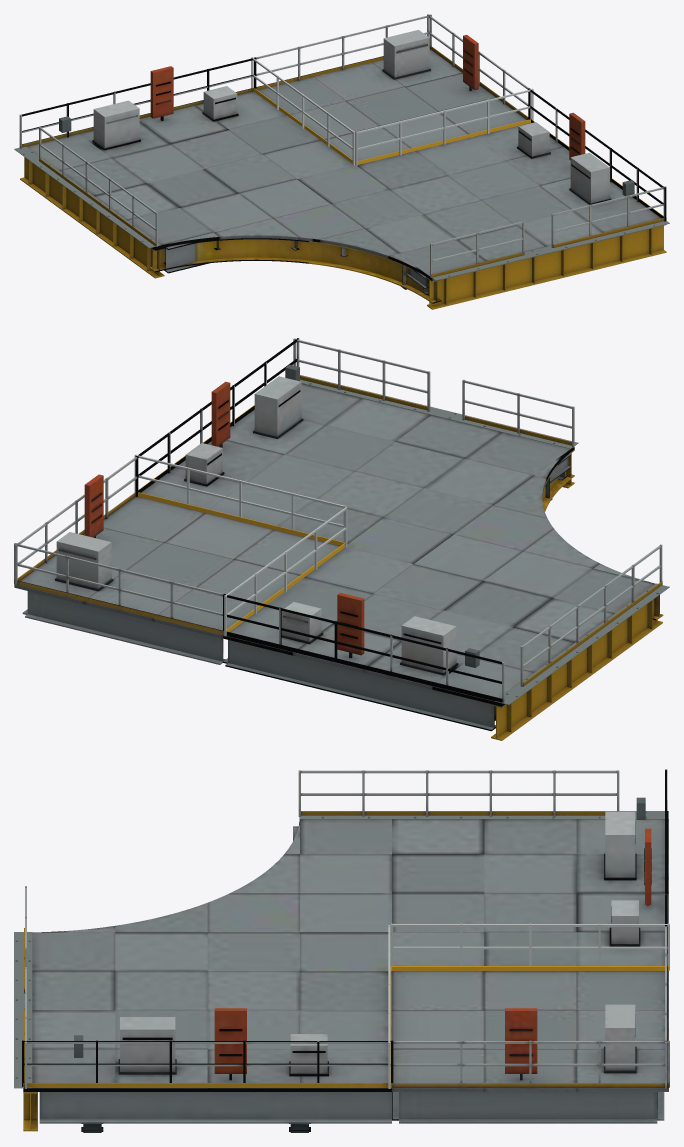
File: deck_quad_v5.glb
The picture shows the model from 3 angles, top to bottom: view 1: azimuth 30°, elevation 25°; view 2: azimuth 150°, elevation 25°; view 3: azimuth 270°, elevation 25°; orthographic projection. The views are drawn at different scales.
Parts seen in each view (by area): view 1: body, opt_corner, opt_edgeA_slot, opt_edgeB_slot, opt_cornercut, opt_edgeB_seam, opt_edgeA_seam; view 2: body, opt_corner, opt_edgeB_slot, opt_cornercut, opt_edgeA_slot, opt_edgeB_seam, opt_edgeA_seam; view 3: body, opt_corner, opt_edgeB_slot, opt_cornercut, opt_edgeA_seam, opt_edgeB_seam, opt_edgeA_slot.
Part boxes in pixels (bbox=[...]): body: bbox=[19, 58, 666, 303]; opt_corner: bbox=[254, 14, 530, 161]; opt_edgeA_slot: bbox=[427, 186, 666, 309]; opt_edgeB_slot: bbox=[20, 127, 164, 278]; opt_cornercut: bbox=[251, 57, 533, 165]; opt_edgeB_seam: bbox=[14, 146, 160, 248]; opt_edgeA_seam: bbox=[429, 221, 669, 280]; body: bbox=[138, 338, 663, 731]; opt_corner: bbox=[14, 456, 339, 664]; opt_edgeB_slot: bbox=[491, 544, 662, 740]; opt_cornercut: bbox=[134, 454, 347, 636]; opt_edgeA_slot: bbox=[293, 338, 574, 488]; opt_edgeB_seam: bbox=[495, 583, 669, 704]; opt_edgeA_seam: bbox=[300, 375, 578, 448]; body: bbox=[22, 769, 668, 1132]; opt_corner: bbox=[391, 925, 669, 1123]; opt_edgeB_slot: bbox=[298, 770, 619, 816]; opt_cornercut: bbox=[388, 923, 669, 1088]; opt_edgeA_seam: bbox=[14, 932, 32, 1088]; opt_edgeB_seam: bbox=[300, 811, 668, 819]; opt_edgeA_slot: bbox=[23, 886, 37, 1131].
Size of the model in its own units: 14.22 by 2.76 by 14.22.
Materials: 6 (4 with a texture image).
